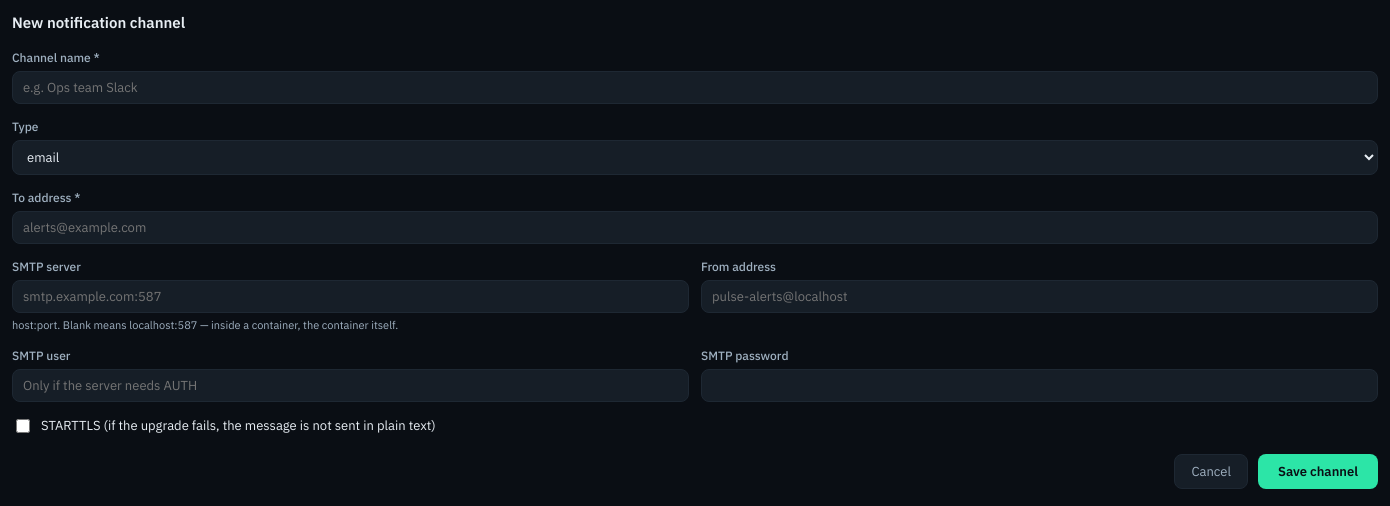
Test: AlertChannelForm › (e) type switch — selecting webhook shows Webhook URL field
The image size is (1390, 506).
Select "webhook" in the dropdown at (695, 157), box x1=12 y1=140 x2=1378 y2=174
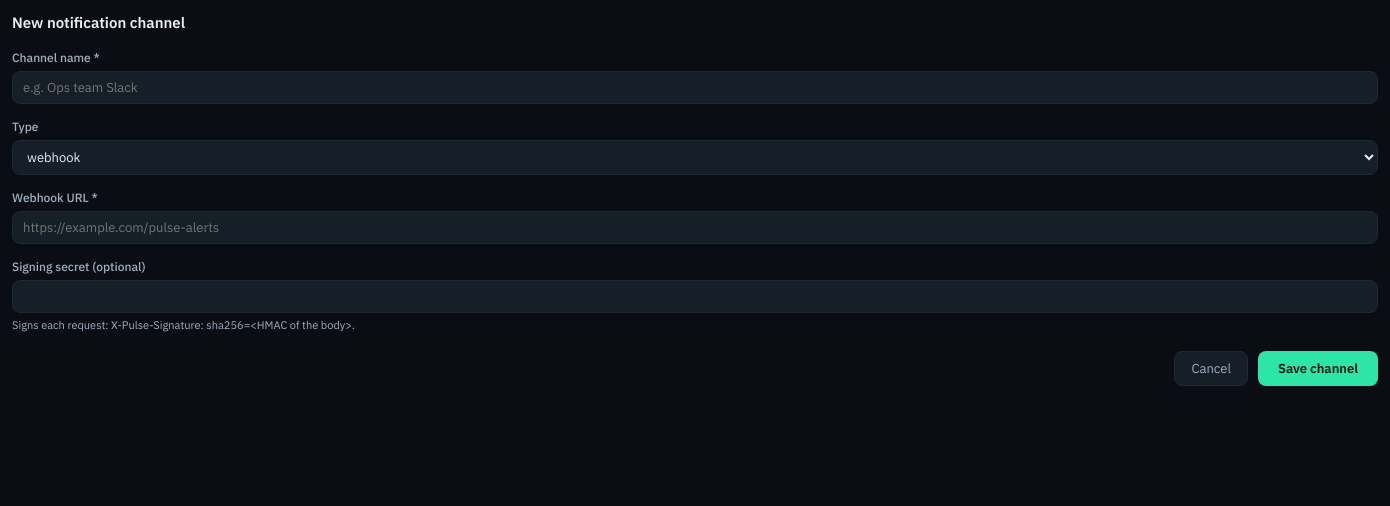
Check: the text "Webhook URL *" is shown, box x1=12 y1=190 x2=98 y2=204
